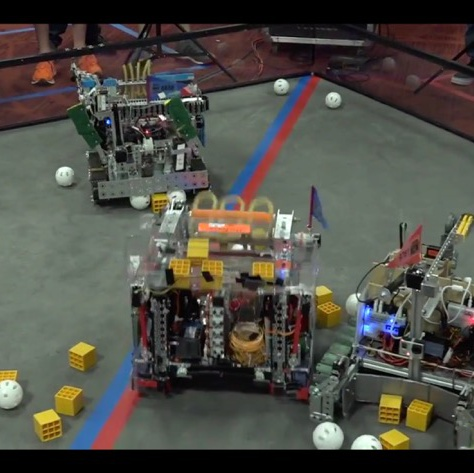robot: (125, 192, 321, 398), (314, 217, 474, 449), (68, 56, 216, 202)
